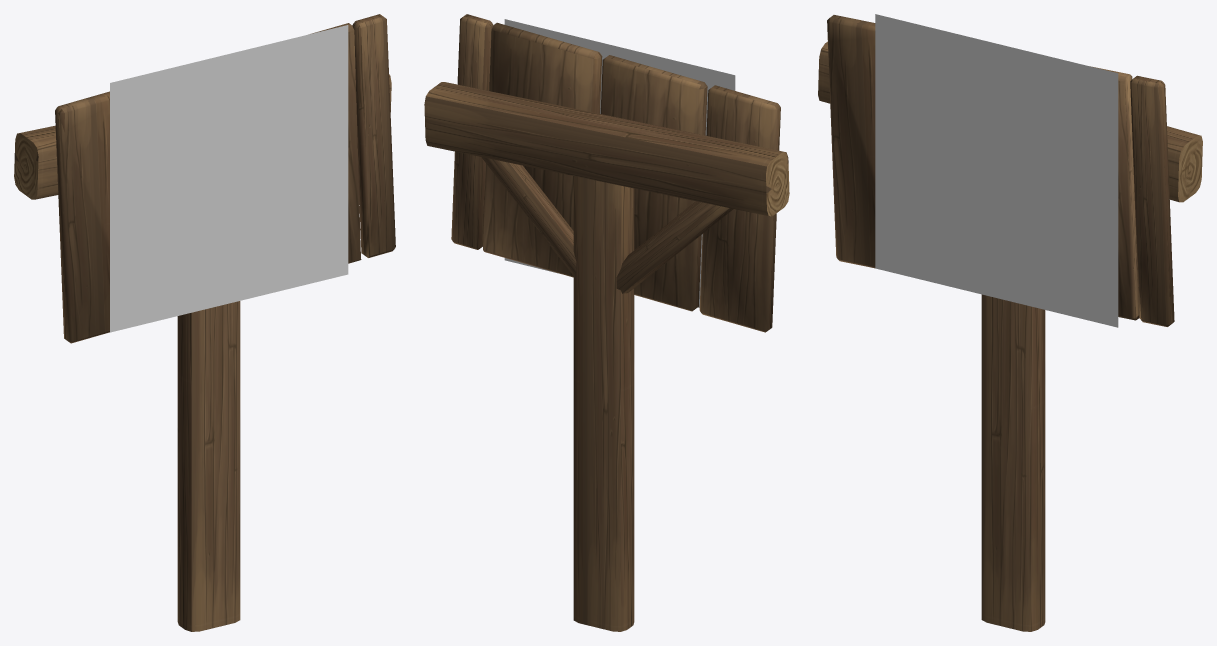
File: banner.fbx
3 renders of one model, left to right at view 1: azimuth 30°, elevation 25°; view 2: azimuth 150°, elevation 25°; view 3: azimuth 330°, elevation 25°, orthographic. The views are drawn at different scales.
Parts seen in each view (by area): view 1: logo, Banner, Banner2; view 2: Banner, Banner2, logo; view 3: logo, Banner, Banner2.
Part boxes in pixels (x1,y1,x2,y2): logo: [110, 25, 348, 332]; Banner: [14, 74, 391, 631]; Banner2: [55, 14, 395, 343]; Banner: [424, 82, 789, 631]; Banner2: [451, 14, 780, 332]; logo: [504, 19, 735, 307]; logo: [875, 14, 1118, 327]; Banner: [818, 41, 1202, 631]; Banner2: [827, 15, 1174, 326].
Size of the model in its own units: 149 by 232 by 22.9.
Materials: 2 (1 with a texture image).
